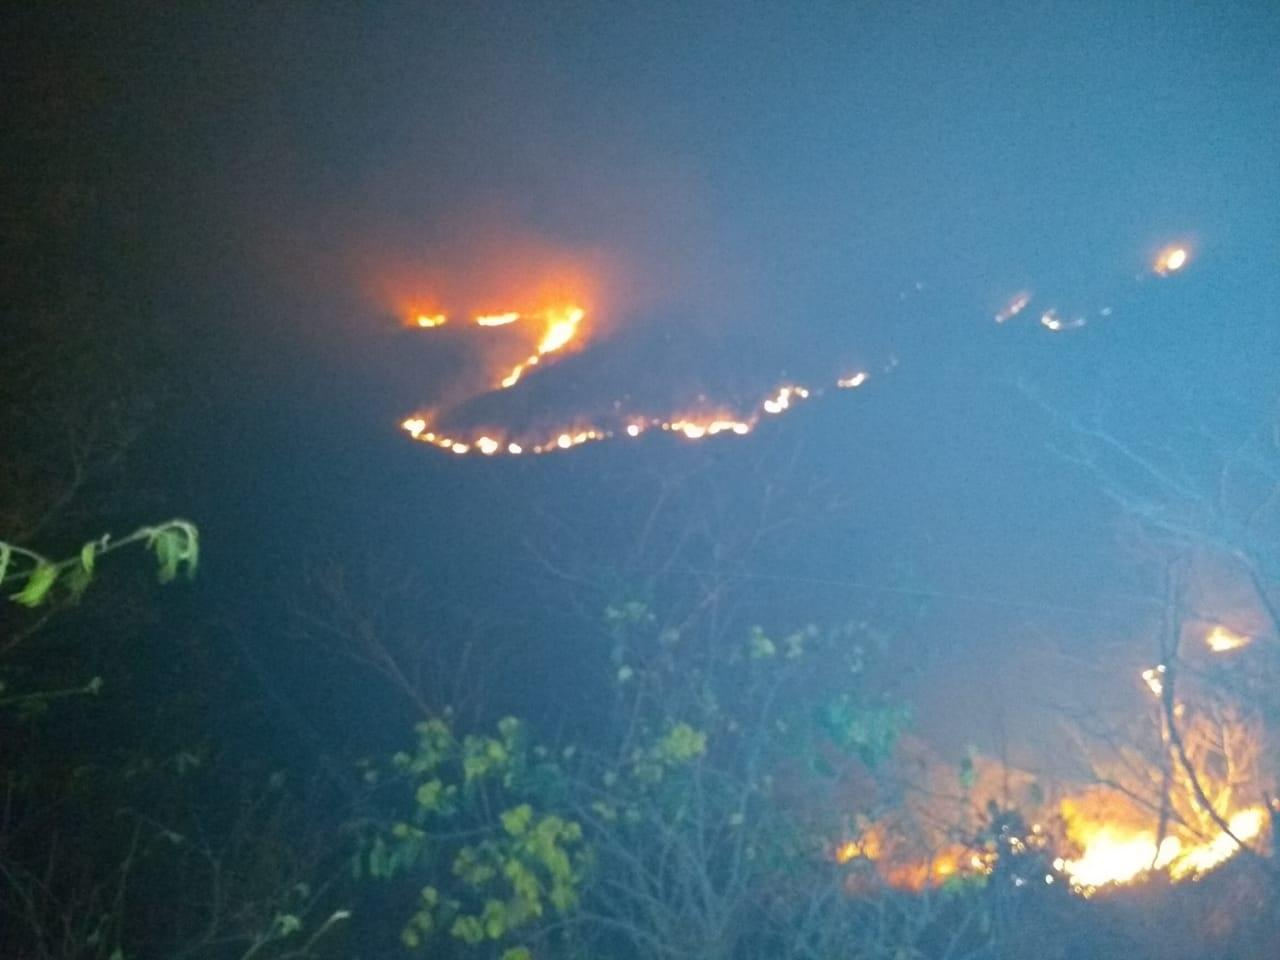fire: (1065, 805, 1278, 882), (527, 297, 588, 358), (672, 407, 775, 433)
